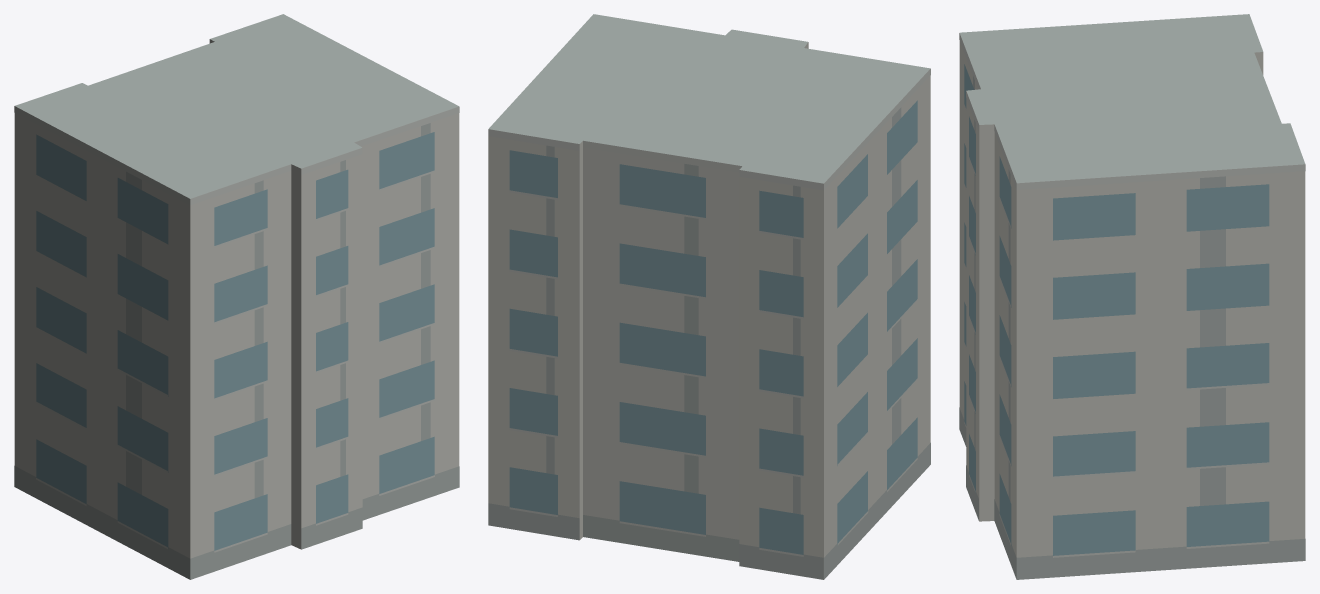
Rendered from survey-upis-32720364.glb.
3 views of the same model, side by side, from view 1: azimuth 30°, elevation 25°; view 2: azimuth 150°, elevation 25°; view 3: azimuth 270°, elevation 25° (orthographic). The views are drawn at different scales.
Parts seen in each view (by area): view 1: survey-upis-32720364.tmp; view 2: survey-upis-32720364.tmp; view 3: survey-upis-32720364.tmp.
Boxes of the visible parts, x1,y1,x2,y2 form: survey-upis-32720364.tmp: (14,14,459,579); survey-upis-32720364.tmp: (488,14,930,579); survey-upis-32720364.tmp: (959,14,1305,579).
Bounding box in the file's own units: 12.92 × 14.1 × 11.16.
